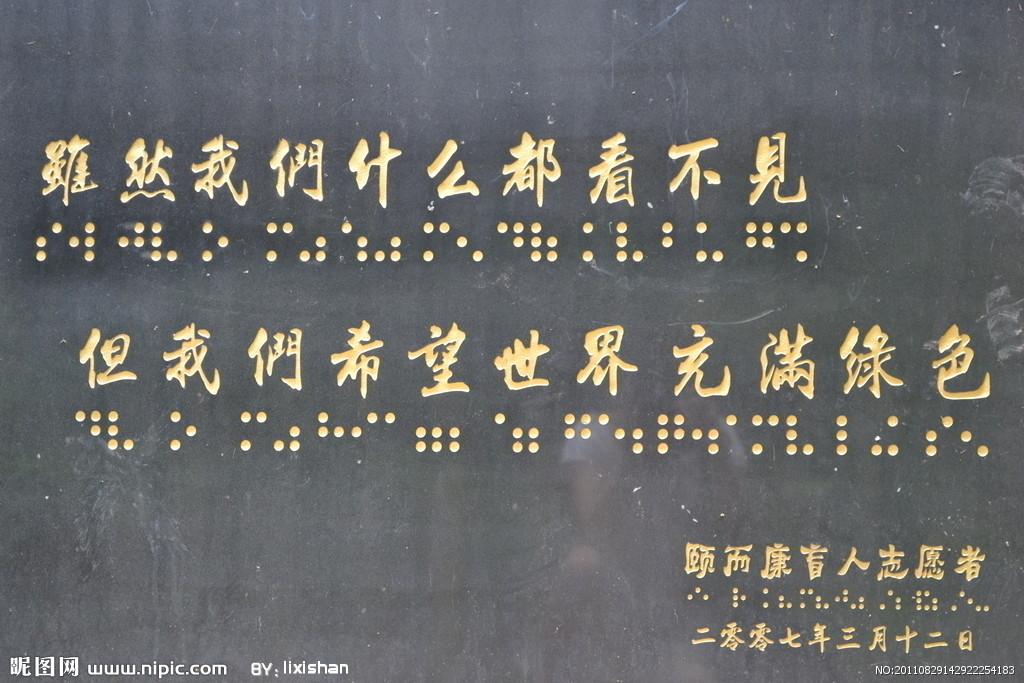Braille: (787, 412, 816, 458), (872, 413, 900, 460), (695, 220, 724, 265), (961, 417, 989, 463), (152, 220, 180, 265), (240, 409, 268, 454), (265, 221, 294, 263), (657, 413, 686, 455), (752, 412, 779, 457), (168, 409, 196, 452), (927, 413, 953, 459), (421, 221, 450, 262), (69, 220, 96, 264), (532, 220, 559, 264), (275, 410, 302, 454), (33, 220, 61, 262), (201, 220, 229, 262), (300, 223, 328, 265), (781, 221, 809, 263), (109, 409, 135, 454), (457, 223, 483, 267), (617, 222, 643, 266), (318, 412, 344, 456), (693, 413, 719, 457), (822, 413, 848, 457), (374, 224, 403, 263), (498, 220, 524, 263), (661, 220, 687, 263), (417, 411, 442, 455), (74, 409, 100, 451), (513, 413, 539, 455), (565, 411, 591, 453), (568, 223, 595, 263), (343, 221, 368, 263), (600, 411, 624, 453), (747, 221, 772, 261), (119, 219, 143, 260), (353, 411, 377, 452), (449, 413, 472, 454), (726, 413, 749, 454), (482, 413, 505, 452), (386, 410, 407, 450), (633, 413, 653, 455), (731, 585, 746, 609), (816, 587, 831, 610), (915, 589, 930, 612), (778, 588, 793, 610), (800, 586, 814, 609), (835, 588, 849, 611), (976, 591, 990, 614), (688, 585, 701, 609), (704, 585, 716, 609), (762, 587, 775, 609), (852, 589, 865, 611), (889, 590, 902, 612), (961, 590, 974, 612), (946, 591, 958, 613), (932, 590, 943, 612), (874, 591, 885, 612)
